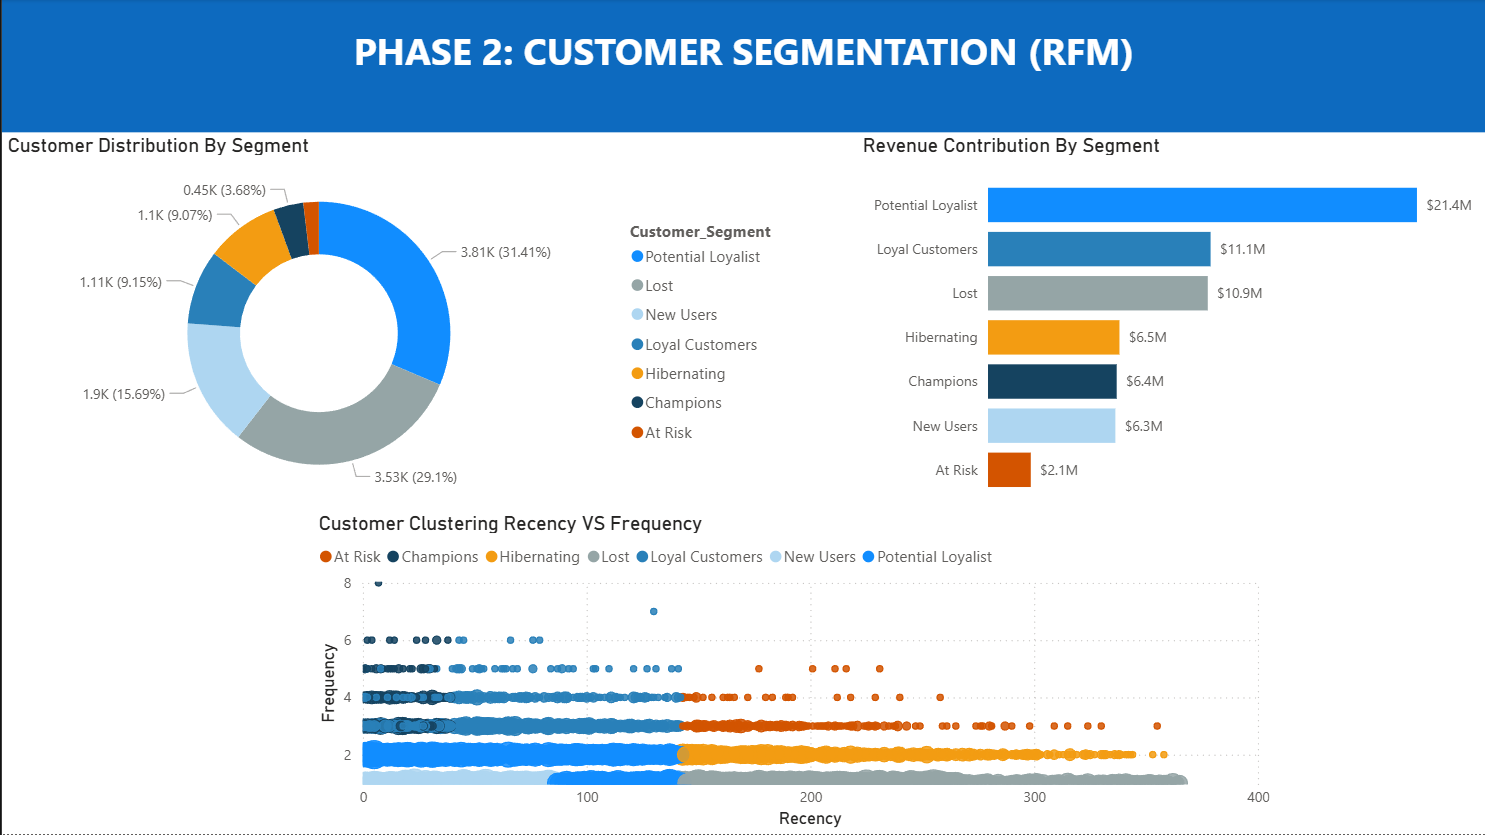

What the dashboard file says about the page in this screenshot:
{"tool":"powerbi","page":{"name":"Page 1","canvas":[1280,720],"ordinal":0},"visuals":[{"type":"donutChart","title":"Customer Distribution By Segment","fields":{"Category":["Dim_Customer.Customer_Segment"],"Y":["CountNonNull(Dim_Customer.Customer ID)"]},"box":[0,115.5,683.6,326.4],"z":0},{"type":"clusteredBarChart","title":"Revenue Contribution By Segment","fields":{"Y":["Sum(Electronic_Sales.Total_Sales)"],"Category":["Dim_Customer.Customer_Segment"]},"box":[737.3,115.5,542.7,326.4],"z":1000},{"type":"scatterChart","title":"Customer Clustering Recency VS Frequency","fields":{"X":["Dim_Customer.R_Score_Value"],"Y":["Dim_Customer.F_Score_Value"],"Series":["Dim_Customer.Customer_Segment"],"Size":["CountNonNull(Dim_Customer.M_Score_Value)"]},"box":[268.2,441.8,830,278.2],"z":2000},{"type":"textbox","box":[0,0,1280,114.5],"z":3001}]}

Visuals, with their boxes in screenshot pixels (x1, y1, x2, y2), scaled from the page's 1280x720 canvas onto the 1485x835 screenshot:
"Customer Distribution By Segment" donutChart: l=0, t=134, r=793, b=512
"Revenue Contribution By Segment" clusteredBarChart: l=855, t=134, r=1484, b=512
"Customer Clustering Recency VS Frequency" scatterChart: l=311, t=512, r=1274, b=834
textbox: l=0, t=0, r=1484, b=133
